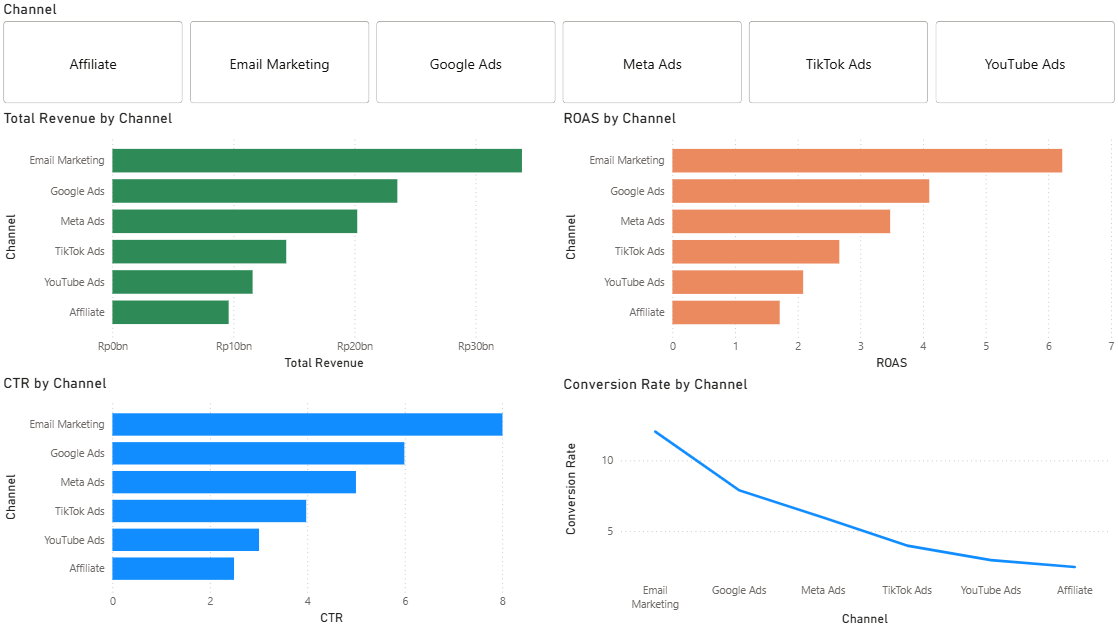

What the dashboard file says about the page in this screenshot:
{"tool":"powerbi","page":{"name":"Channel Performance","canvas":[1280,720],"ordinal":2},"visuals":[{"type":"advancedSlicerVisual","fields":{"Values":["channels.Channel"]},"box":[0,0,1280,123.8],"z":0},{"type":"barChart","fields":{"Category":["channels.Channel"],"Y":["daily_metrics.Total Revenue"]},"box":[0,123.8,640,303.8],"z":1000},{"type":"barChart","fields":{"Category":["channels.Channel"],"Y":["daily_metrics.CTR"]},"box":[0,427.5,640,292.5],"z":2000},{"type":"barChart","fields":{"Category":["channels.Channel"],"Y":["daily_metrics.ROAS"]},"box":[640,124,640,304],"z":3000},{"type":"lineChart","fields":{"Y":["daily_metrics.Conversion Rate"],"Category":["channels.Channel"]},"box":[640,428,640,292],"z":4000}]}

Visuals, with their boxes in screenshot pixels (x1, y1, x2, y2), scaled from the page's 1280x720 canvas onto the 1118x630 screenshot:
advancedSlicerVisual - channels.Channel: [0,0,1117,108]
barChart - channels.Channel x daily_metrics.Total Revenue: [0,108,559,374]
barChart - channels.Channel x daily_metrics.CTR: [0,374,559,629]
barChart - channels.Channel x daily_metrics.ROAS: [559,108,1117,374]
lineChart - daily_metrics.Conversion Rate x channels.Channel: [559,374,1117,629]
